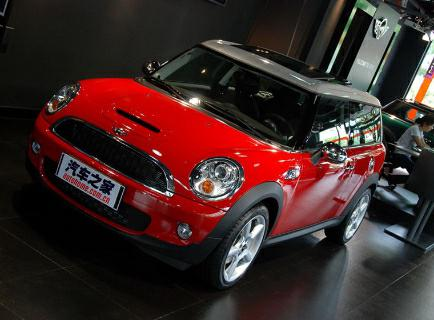MINI CLUBMAN: (24, 40, 391, 281)
